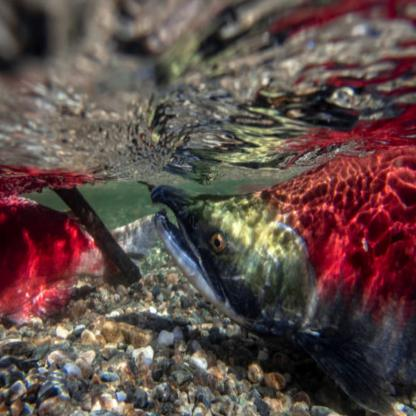sockeye: (146, 158, 412, 367), (0, 179, 130, 315)
